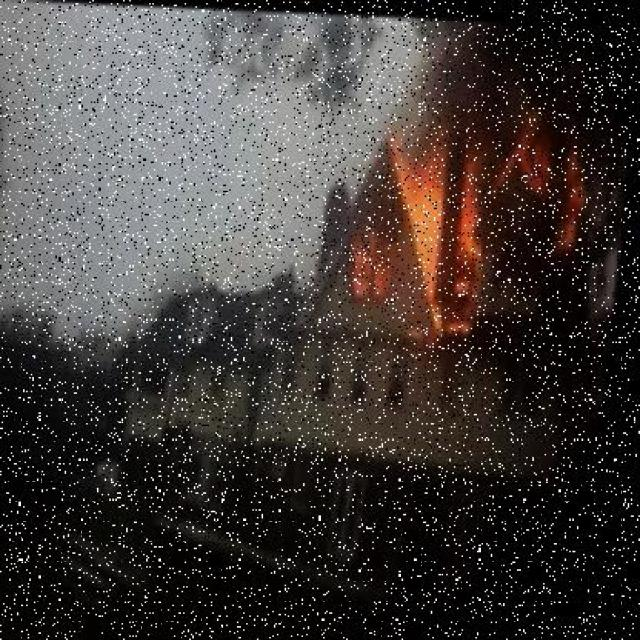fire: (367, 75, 518, 335)
